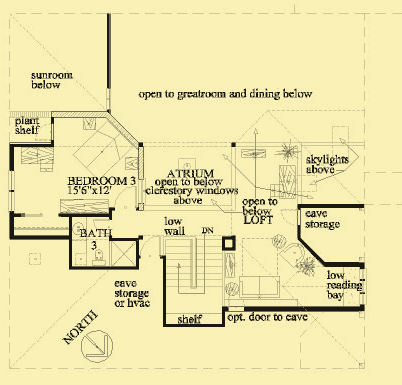bed: (72, 120, 136, 181)
door: (136, 234, 163, 262), (113, 185, 139, 212), (277, 206, 304, 226), (91, 217, 113, 236)
large sink: (89, 246, 112, 271)
large sofa: (238, 273, 283, 300)
small sink: (73, 218, 87, 239)
stairs: (163, 230, 225, 330)
windows: (355, 266, 369, 307), (7, 167, 18, 213)
